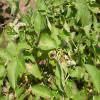Potato leaf late blight: (6, 56, 20, 89), (54, 56, 66, 92), (22, 62, 43, 79), (58, 58, 68, 79), (47, 75, 60, 90), (6, 32, 19, 43), (13, 22, 28, 30)
